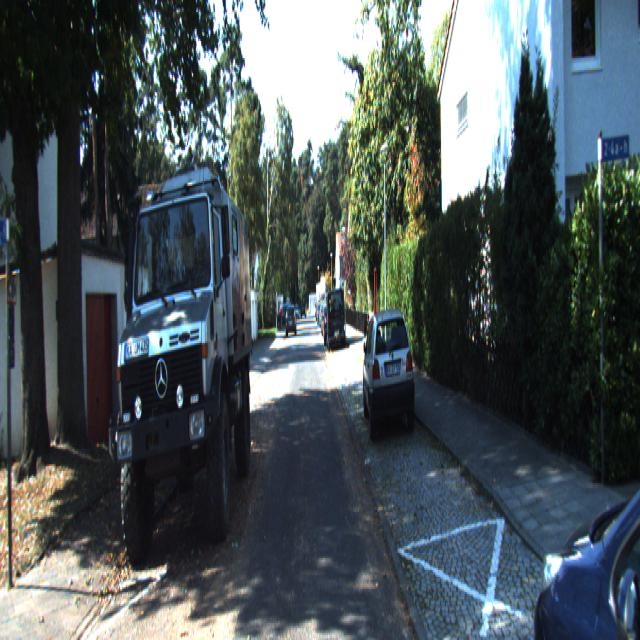Car: (116, 157, 253, 567), (528, 299, 640, 638), (361, 308, 417, 446), (326, 286, 345, 349), (285, 306, 297, 337)
